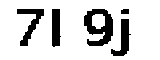7: (12, 5, 45, 51)
9: (82, 5, 114, 51)
I: (48, 4, 74, 54)
j: (113, 4, 139, 59)
